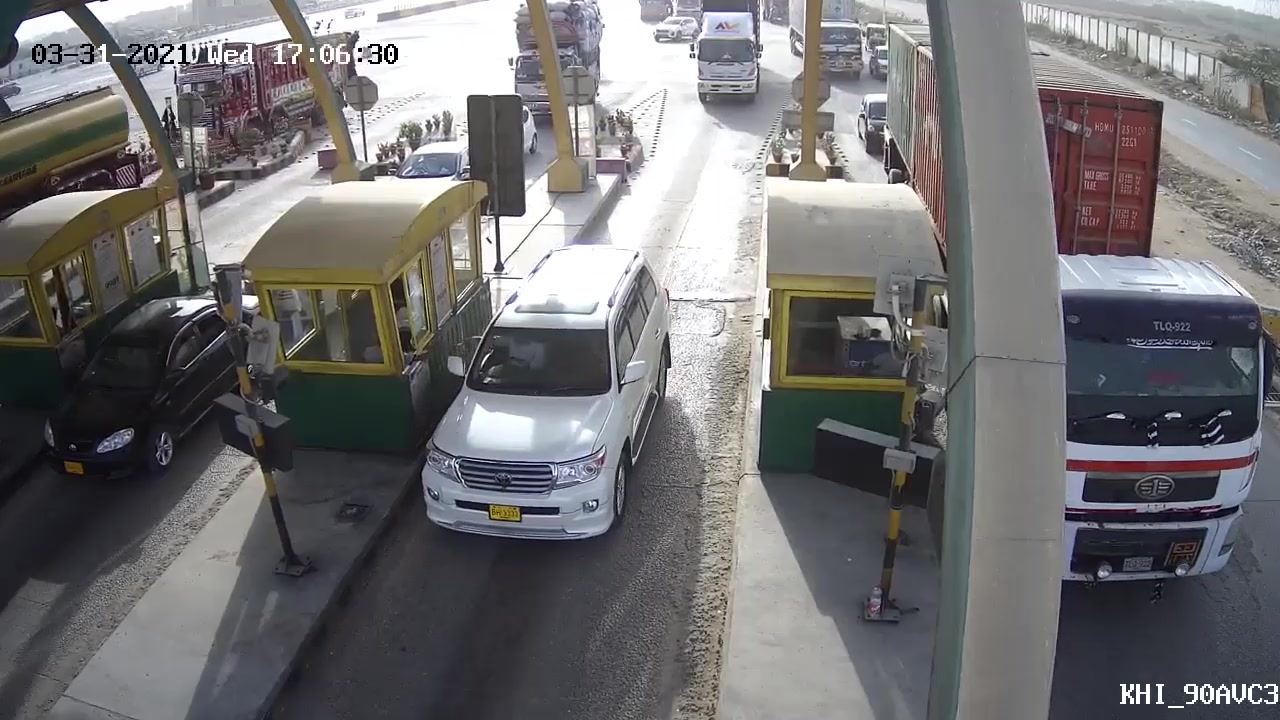F1: (404, 239, 683, 568)
